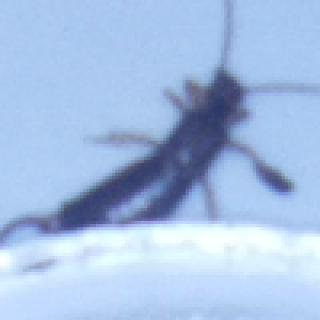earwig: (0, 0, 316, 229)
